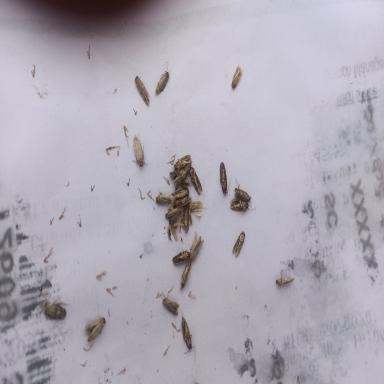pbw: (234, 177, 256, 209), (181, 313, 194, 355), (134, 74, 150, 106), (85, 316, 105, 340), (132, 135, 147, 166), (188, 166, 203, 197), (156, 60, 170, 92), (219, 160, 231, 196), (189, 231, 203, 261), (44, 302, 67, 319), (169, 215, 185, 239), (232, 231, 246, 257), (161, 294, 179, 314), (172, 154, 192, 172), (185, 200, 203, 216), (231, 64, 243, 88), (276, 271, 295, 286), (180, 262, 191, 285), (230, 199, 253, 210), (172, 249, 190, 263), (174, 176, 192, 190), (173, 196, 191, 210), (165, 205, 183, 218), (171, 188, 189, 199), (155, 194, 174, 204), (186, 204, 193, 226), (184, 208, 188, 232)
